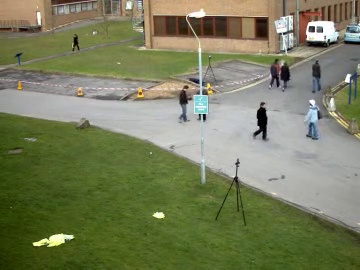person: (177, 84, 192, 122), (178, 83, 193, 121), (178, 85, 193, 122)
